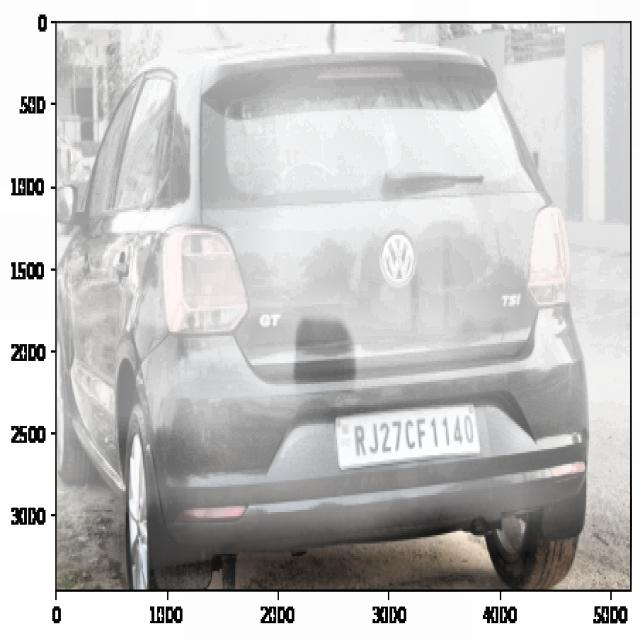license_plate: (342, 408, 480, 462)
